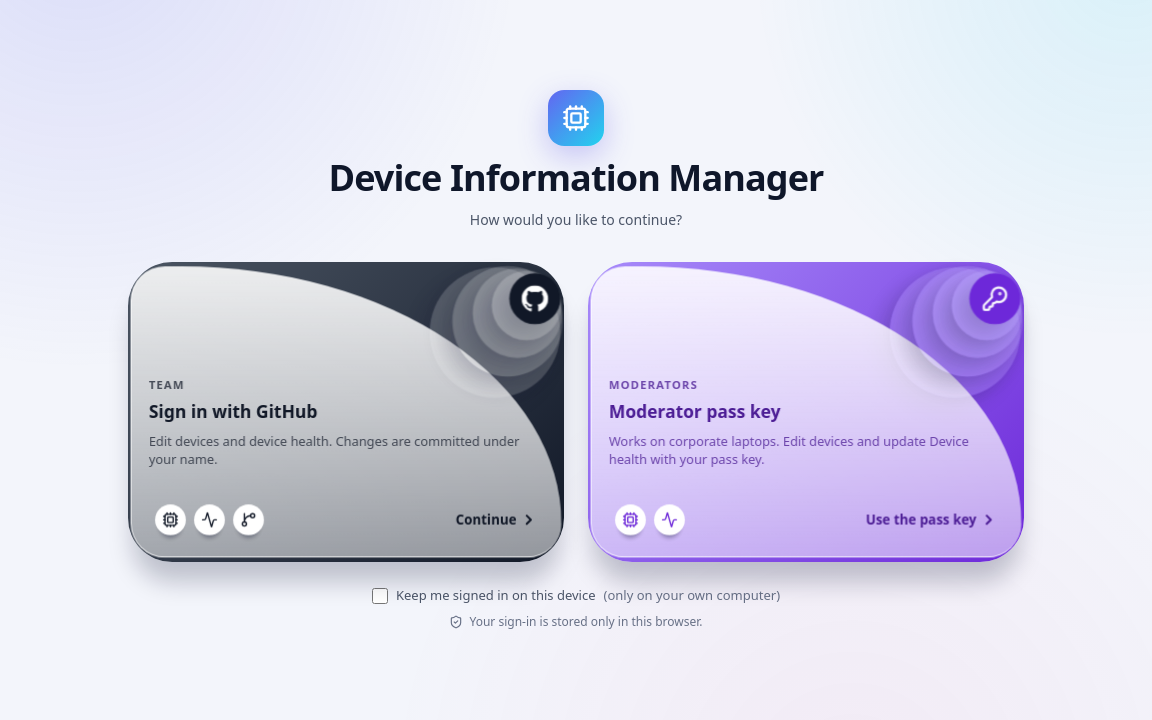
Test: Moderator sign-in › signs a moderator in with their name and a GitHub token as pass key, talking only to GitHub
Later steps or results of the test are not shown.
Click the button with aria-label "Sign in as moderator".
click(806, 412)  # box top-left (588, 262), bottom-right (1024, 562)
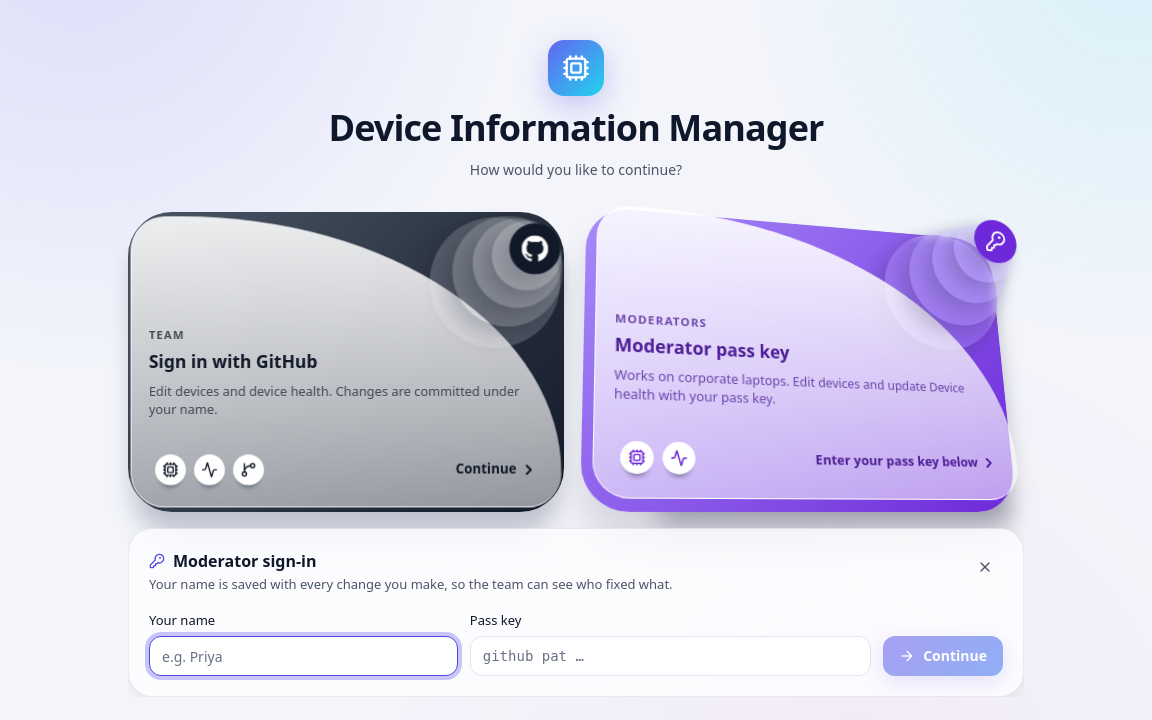
Expected: the button "Continue" is disabled, top-left (883, 636), bottom-right (1003, 676)
Type "github_pat_abc" into the password field labelled "Pass key".
click(670, 656); type("github_pat_abc")  # box top-left (470, 636), bottom-right (871, 676)
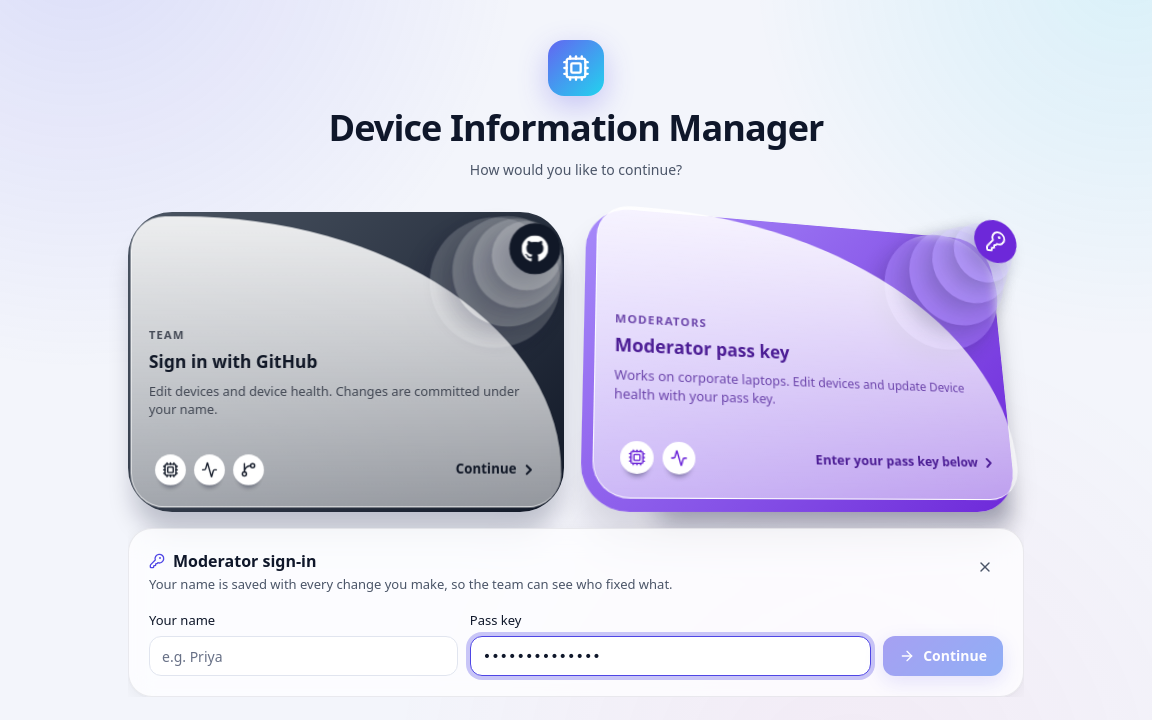
Expected: the button "Continue" is disabled, top-left (883, 636), bottom-right (1003, 676)
